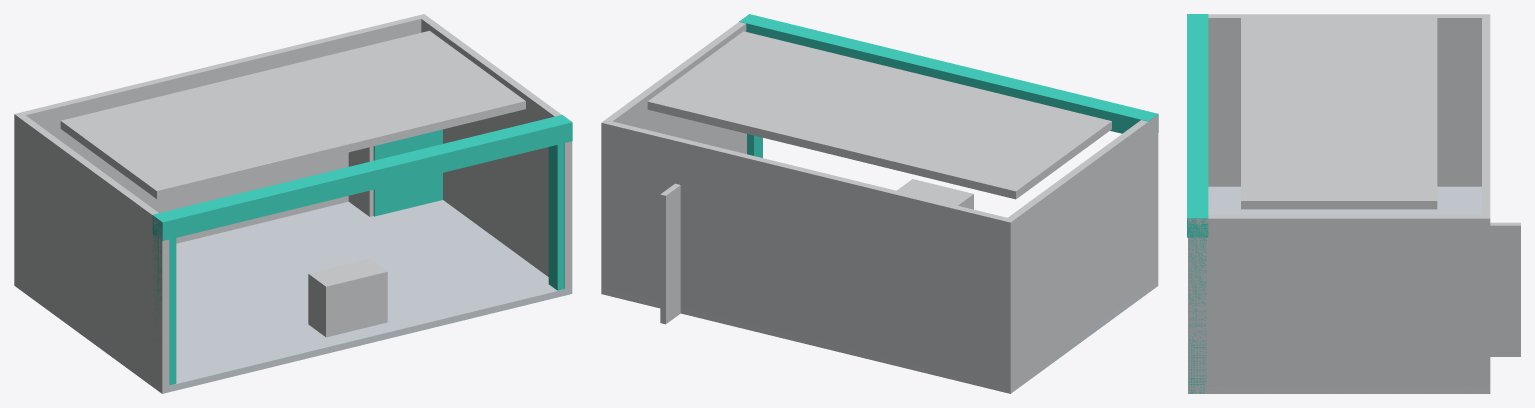
The picture shows the model from 3 angles, left to right: view 1: azimuth 30°, elevation 25°; view 2: azimuth 150°, elevation 25°; view 3: azimuth 270°, elevation 25°; orthographic projection. The views are drawn at different scales.
Parts seen in each view (by area): view 1: Exhibition Booth Concept; view 2: Exhibition Booth Concept; view 3: Exhibition Booth Concept.
Boxes of the visible parts, x1,y1,x2,y2 form: Exhibition Booth Concept: (14, 14, 572, 393); Exhibition Booth Concept: (601, 14, 1158, 393); Exhibition Booth Concept: (1187, 14, 1520, 393).
Size of the model in its own units: 8 by 3.34 by 5.52.
